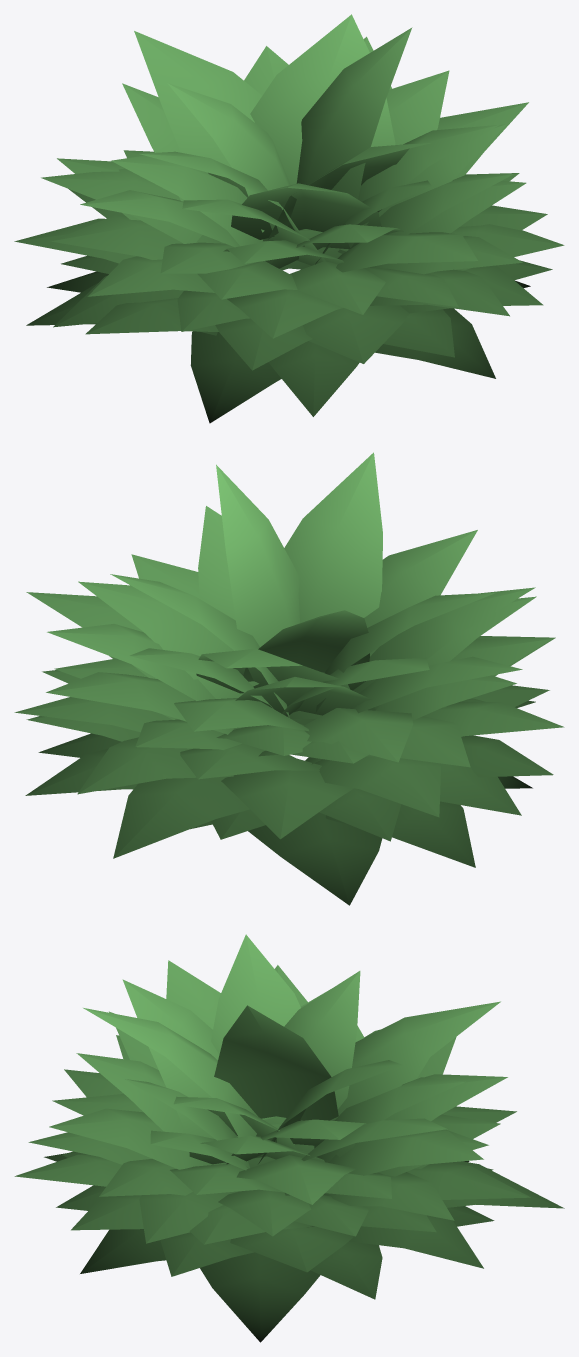
File: SM_Veg_02_BushSmall.fbx
3 views of the same model, one above another, from view 1: azimuth 30°, elevation 25°; view 2: azimuth 150°, elevation 25°; view 3: azimuth 270°, elevation 25° (orthographic). The views are drawn at different scales.
Visible parts, largest first — view 1: SM_Veg_02_BushSmall; view 2: SM_Veg_02_BushSmall; view 3: SM_Veg_02_BushSmall.
Boxes of the visible parts, x1,y1,x2,y2 form: SM_Veg_02_BushSmall: (14, 14, 564, 423); SM_Veg_02_BushSmall: (14, 452, 564, 905); SM_Veg_02_BushSmall: (14, 934, 564, 1342).
Size of the model in its own units: 103 by 60 by 107.
